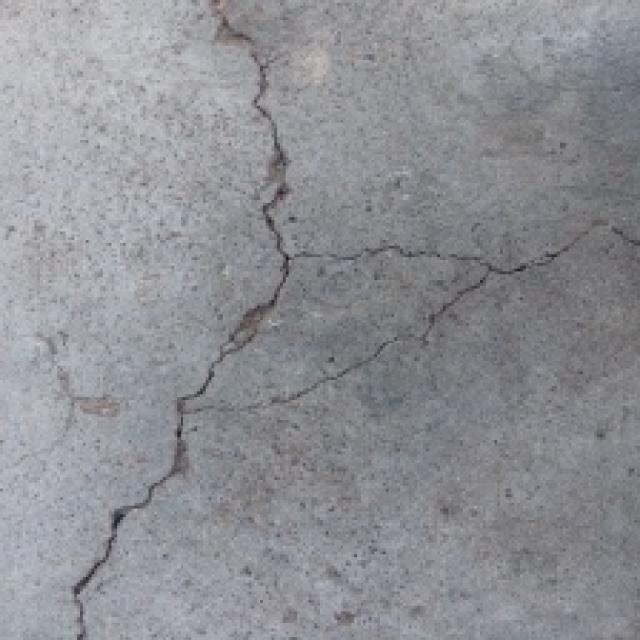crack: (50, 250, 288, 640), (246, 194, 640, 336), (176, 0, 326, 308)
